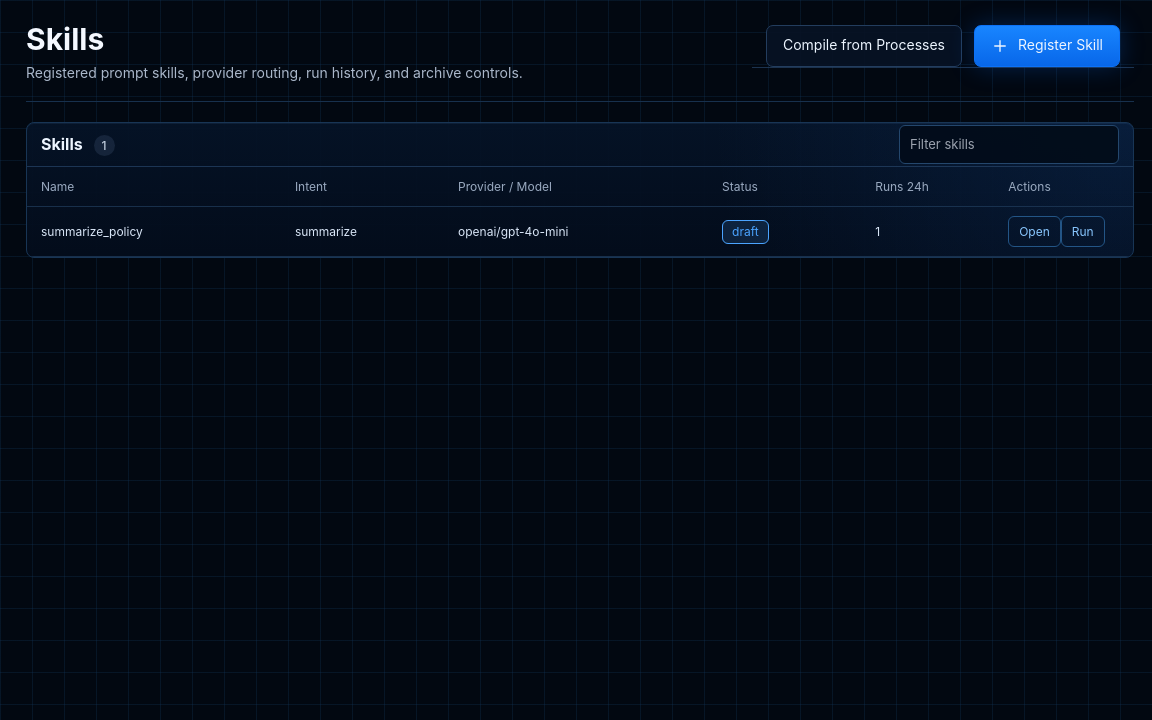
Phase 13.B UI › run_skill_modal_generates_form_from_output_schema
The image size is (1152, 720).
Click the button with aria-label "Run summarize_policy": (1083, 232) x1=1061 y1=216 x2=1105 y2=248
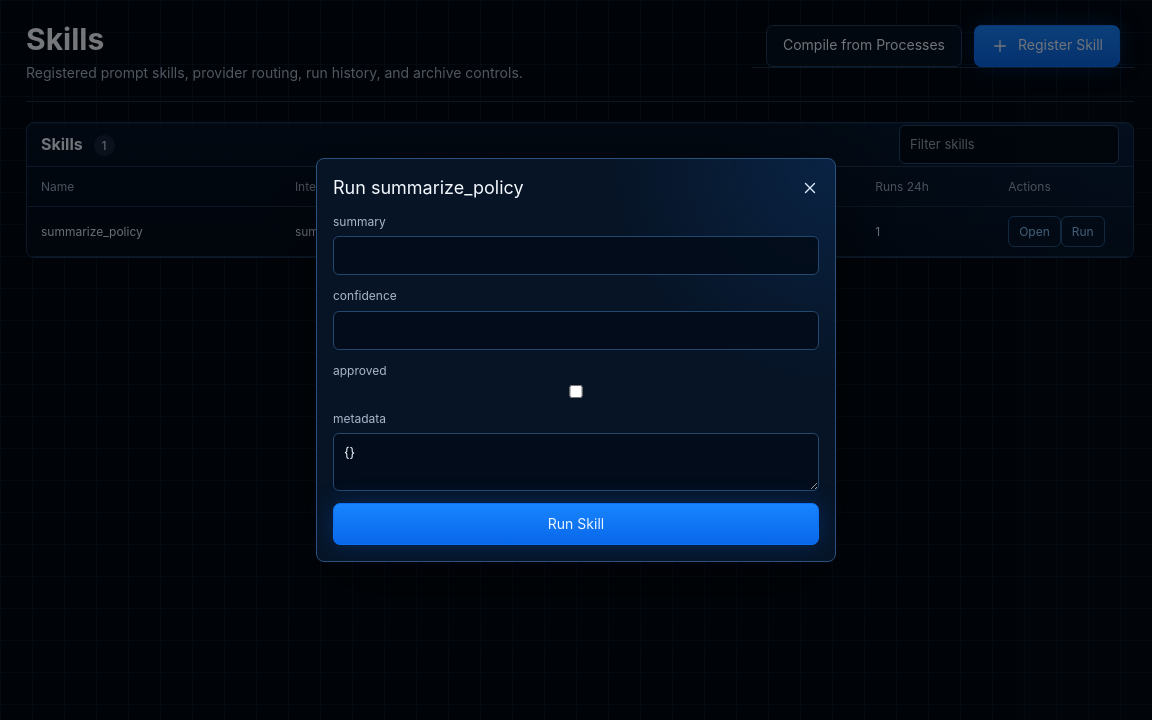
Now the text box labelled "metadata" holds "{}", box x1=333 y1=433 x2=819 y2=491
